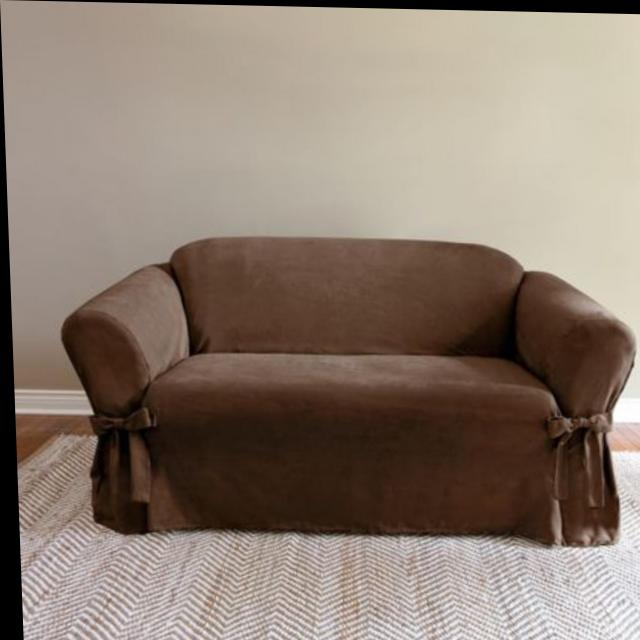Sofa: (55, 231, 640, 544)
